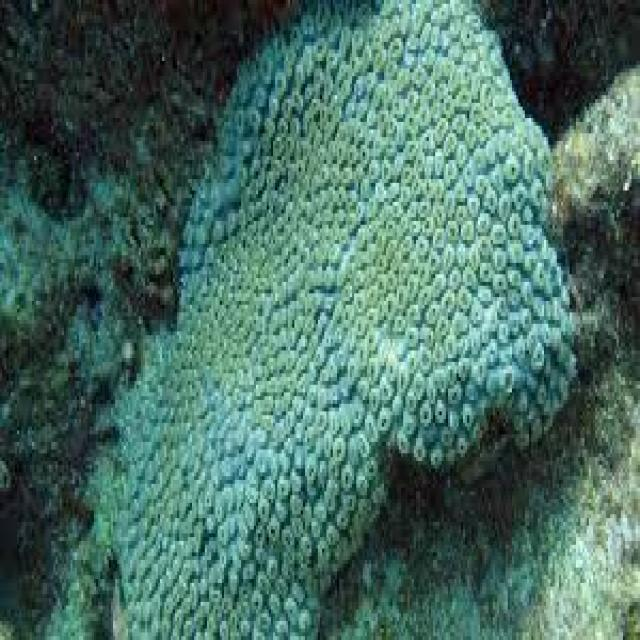Coral: (106, 0, 582, 640)
